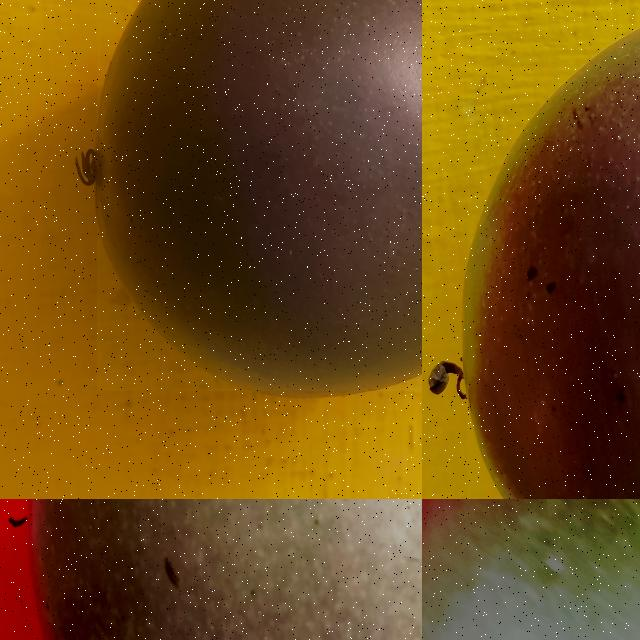Estado-1: (26, 499, 422, 640), (422, 499, 640, 640)
Estado-5: (466, 27, 640, 499)
